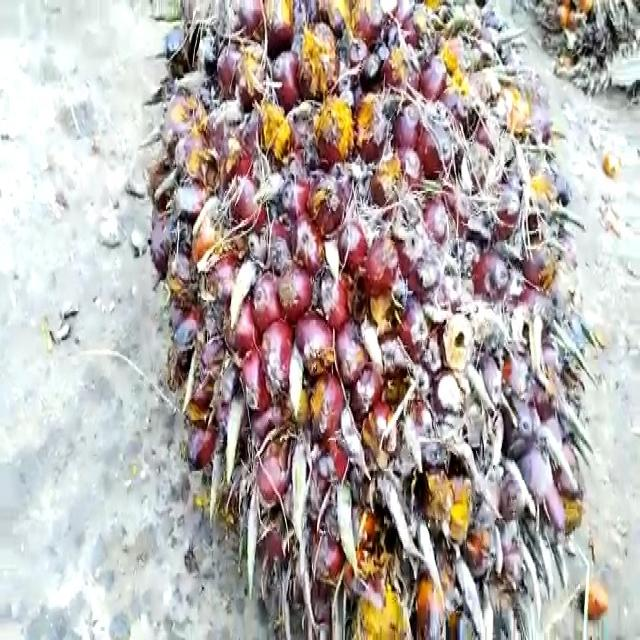palm oil: (139, 0, 593, 640)
